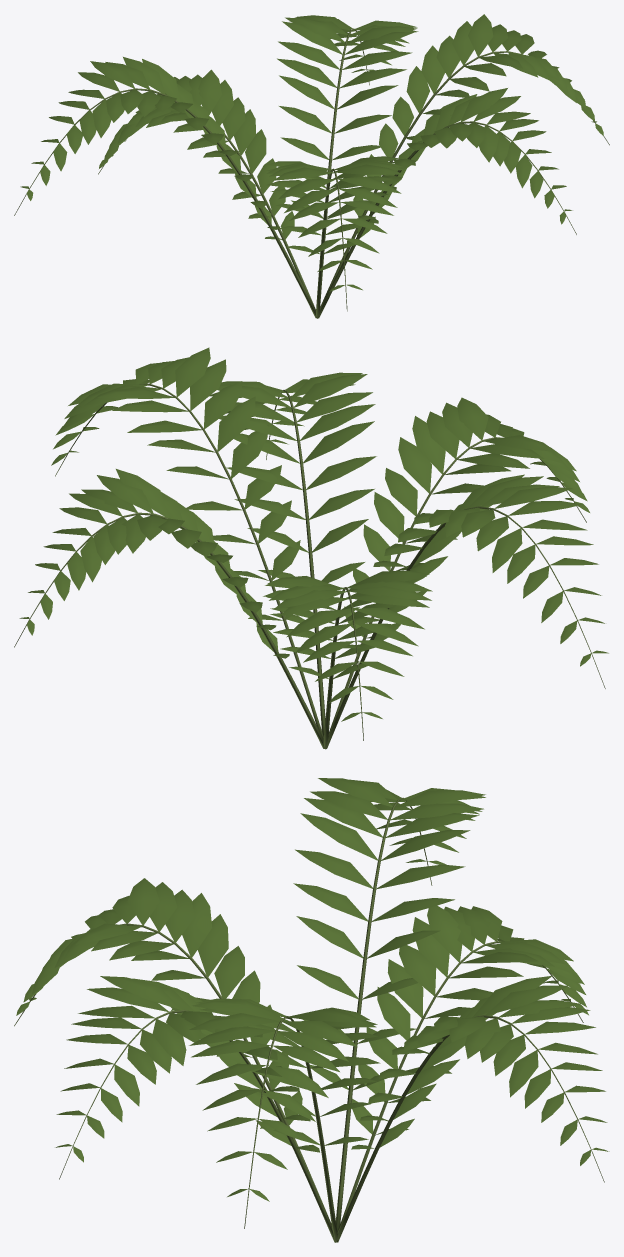
File: fern-sparse-lod2.glb
The picture shows the model from 3 angles, top to bottom: view 1: azimuth 30°, elevation 25°; view 2: azimuth 150°, elevation 25°; view 3: azimuth 270°, elevation 25°; orthographic projection. The views are drawn at different scales.
Parts seen in each view (by area): view 1: fern-sparse-lod2 foliage, fern-sparse-lod2 stems; view 2: fern-sparse-lod2 foliage, fern-sparse-lod2 stems; view 3: fern-sparse-lod2 foliage, fern-sparse-lod2 stems.
Part boxes in pixels (bbox=[...]): fern-sparse-lod2 foliage: bbox=[20, 14, 603, 291]; fern-sparse-lod2 stems: bbox=[14, 28, 609, 318]; fern-sparse-lod2 foliage: bbox=[19, 347, 608, 721]; fern-sparse-lod2 stems: bbox=[14, 383, 605, 749]; fern-sparse-lod2 foliage: bbox=[16, 778, 609, 1201]; fern-sparse-lod2 stems: bbox=[14, 797, 604, 1242].
Size of the model in its own units: 1.56 by 0.7368 by 1.16.
